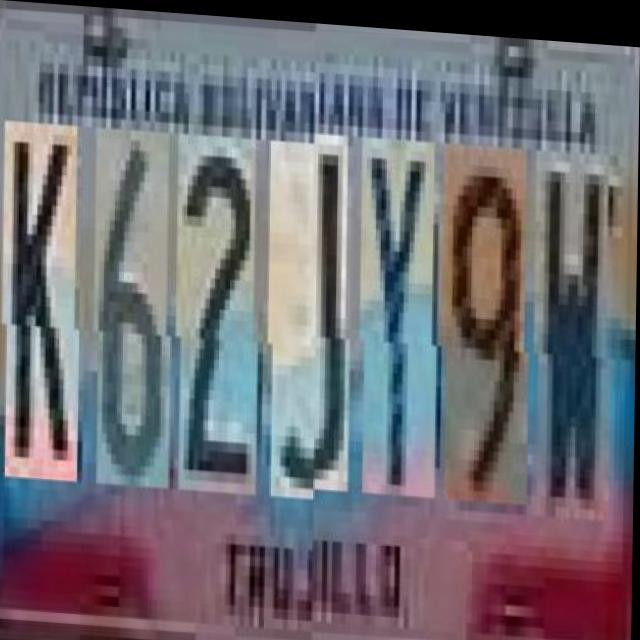2: (180, 131, 261, 491)
6: (97, 126, 174, 486)
9: (446, 147, 532, 507)
j: (272, 136, 353, 496)
k: (6, 121, 83, 481)
w: (538, 152, 614, 522)
y: (363, 142, 440, 501)
